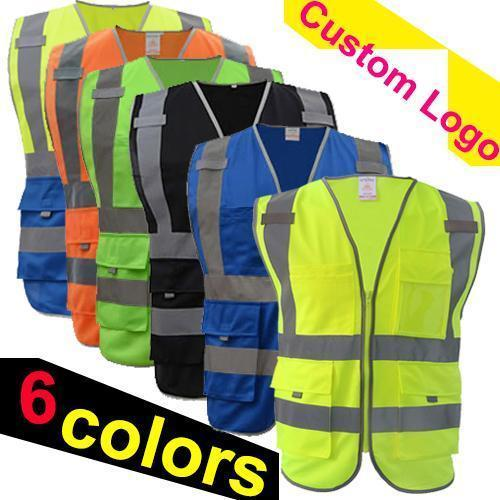vest: (250, 175, 483, 491), (42, 28, 254, 348), (129, 82, 339, 398), (75, 54, 283, 368), (6, 5, 213, 315), (186, 127, 395, 433)
